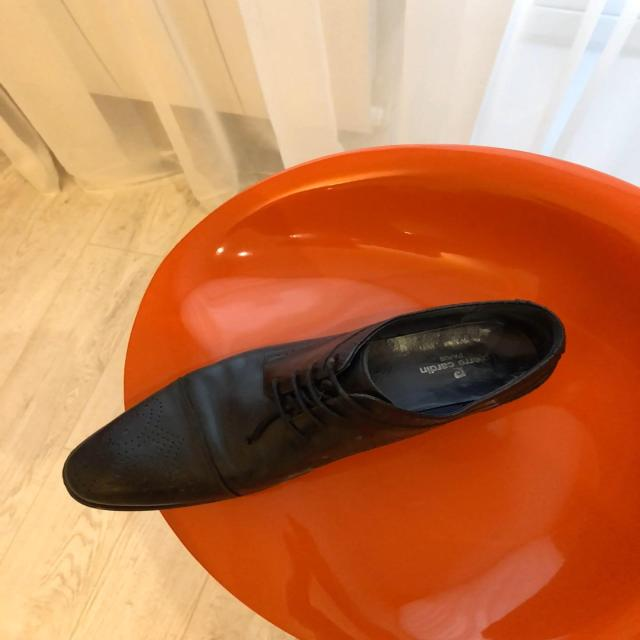shoe: (61, 300, 568, 514)
